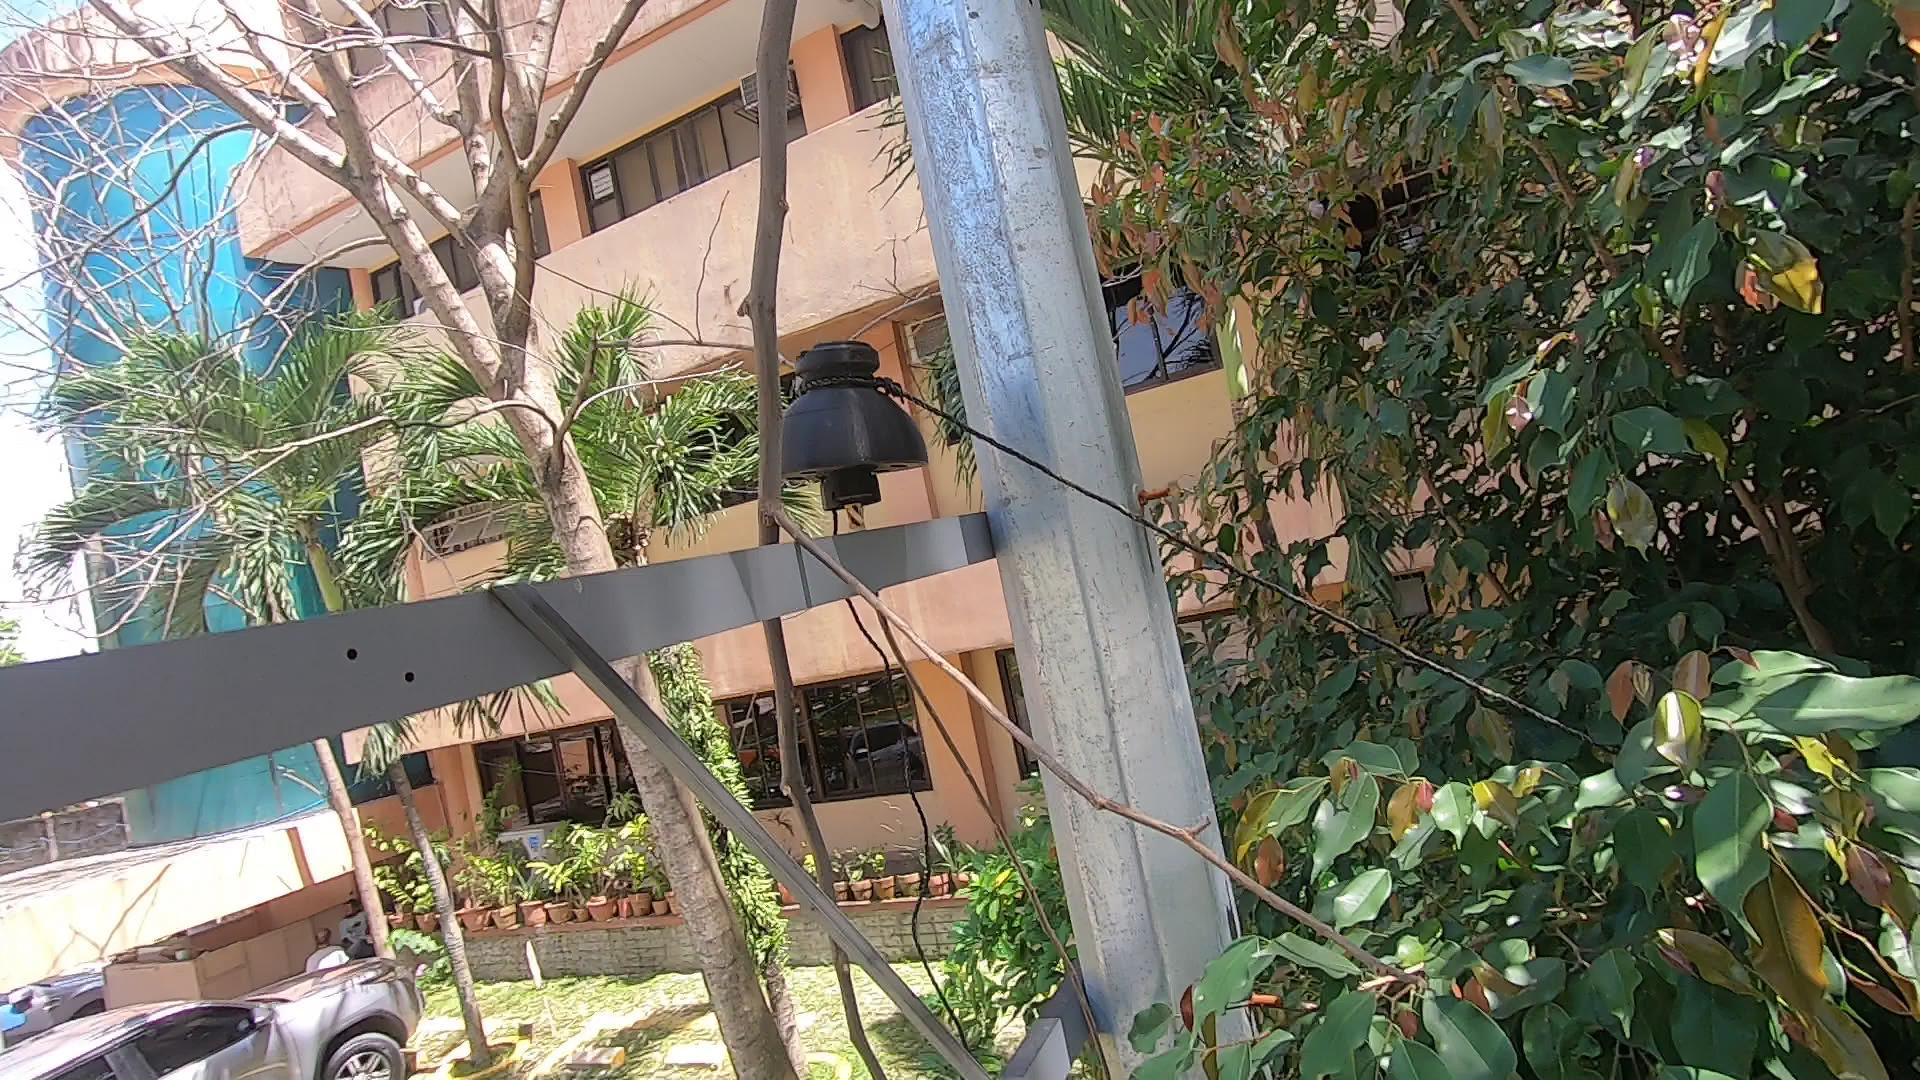tree branch: (684, 3, 1422, 1062)
